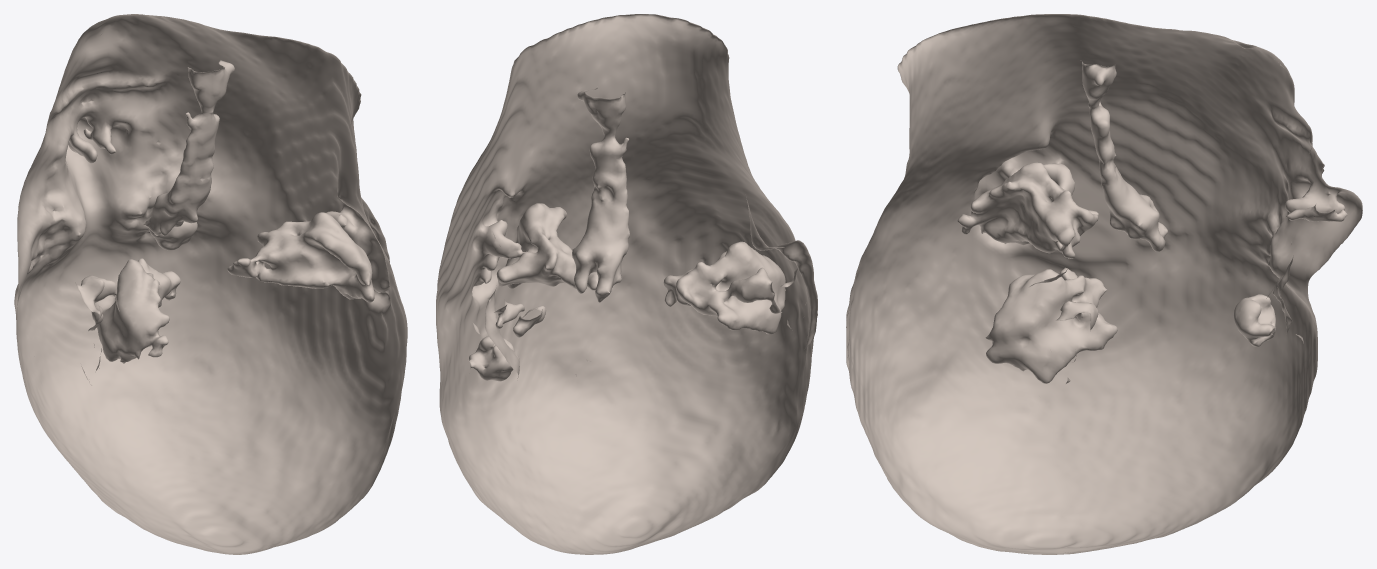
Rendered from skin.glb.
3 views of the same model, side by side, from view 1: azimuth 30°, elevation 25°; view 2: azimuth 150°, elevation 25°; view 3: azimuth 270°, elevation 25° (orthographic). The views are drawn at different scales.
Visible parts, largest first — view 1: world; view 2: world; view 3: world.
Part boxes in pixels (box(x1,y1,x2,y2)): world: box(14, 14, 407, 554); world: box(436, 14, 817, 554); world: box(846, 14, 1362, 554).
Size of the model in its own units: 171 by 234 by 224.
